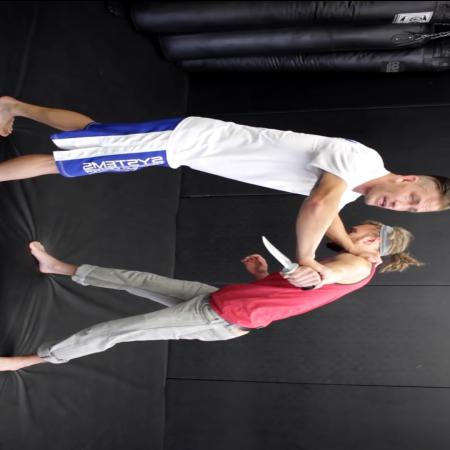long weapon: (258, 232, 326, 296)
